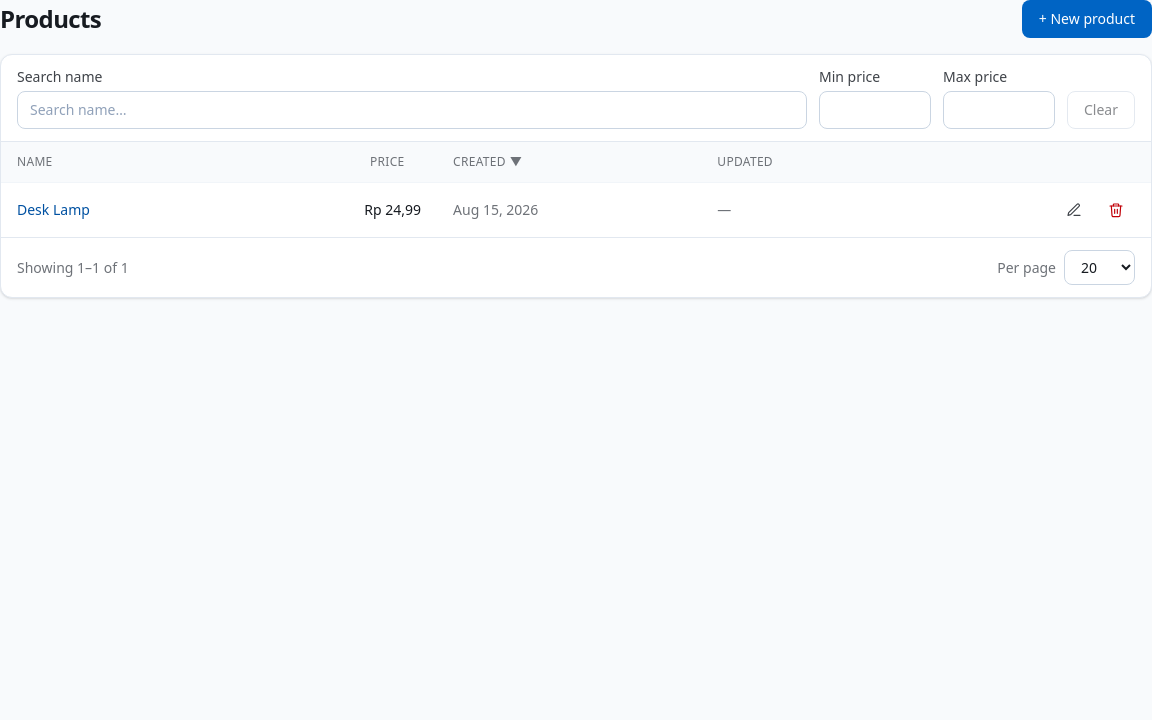
Test: delete › closes on Escape without deleting
This screenshot has width=1152, height=720.
Click the button named "Delete Desk Lamp". click: coordinates (1116, 210)
box: [1097,195,1135,225]
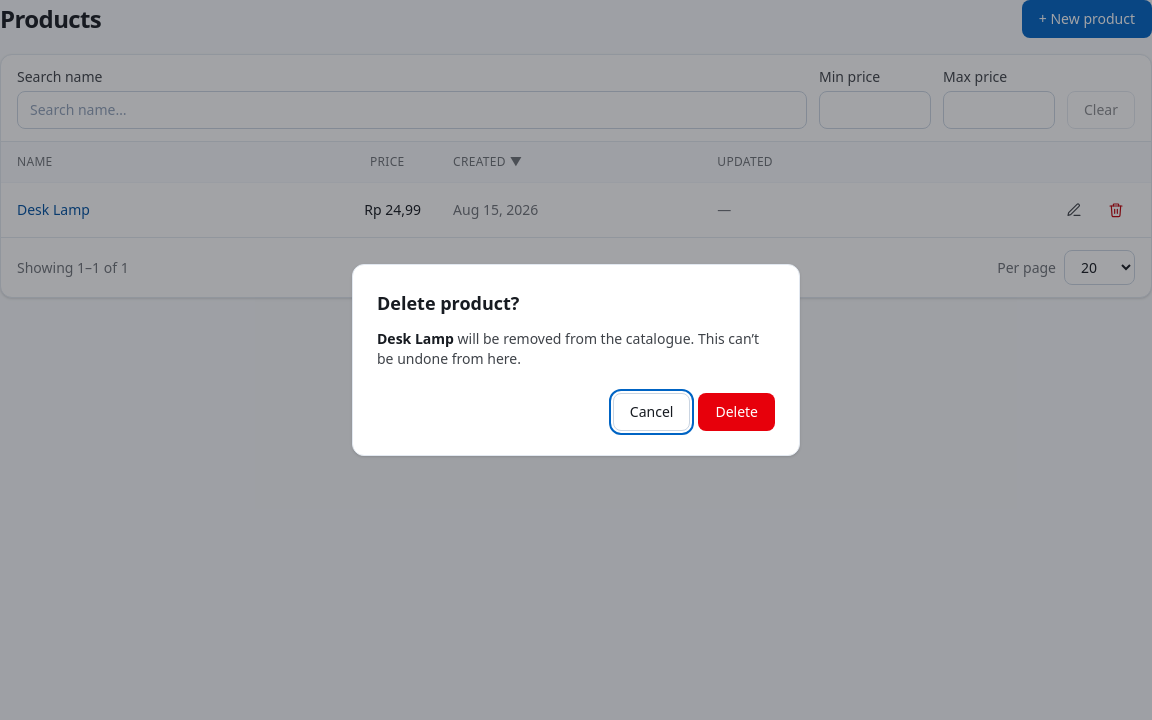
expect the dialog is shown: met, box [352,264,800,456]
Press Escape
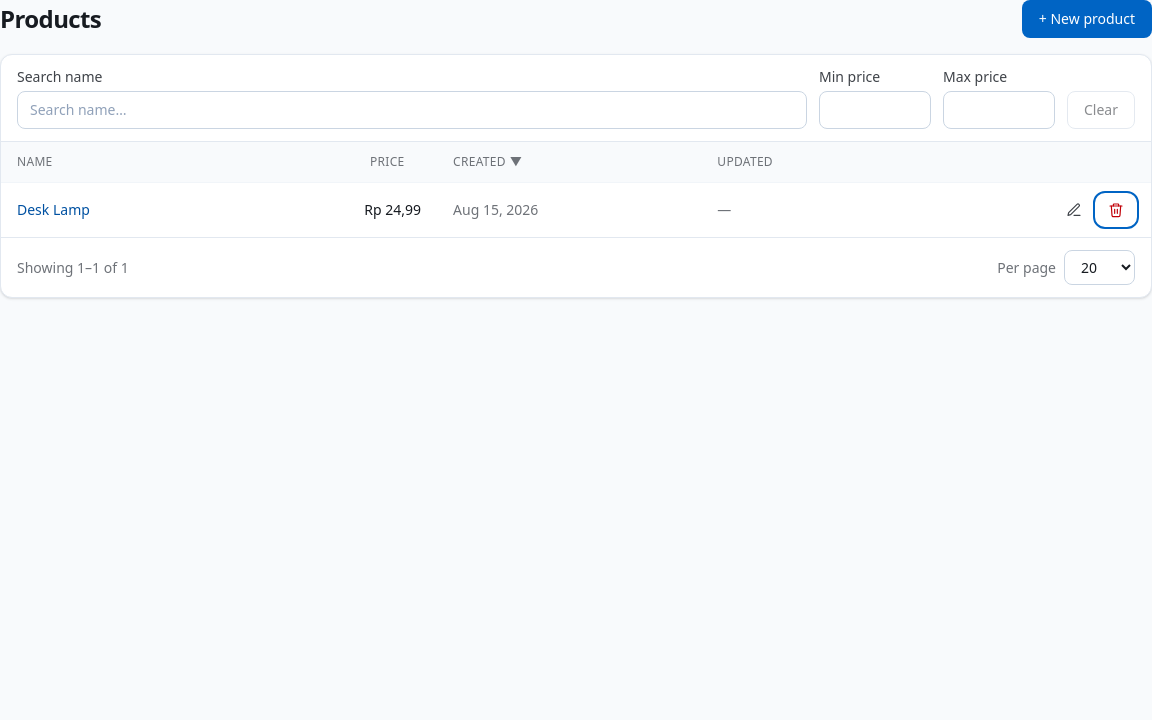
expect the dialog is gone: met
